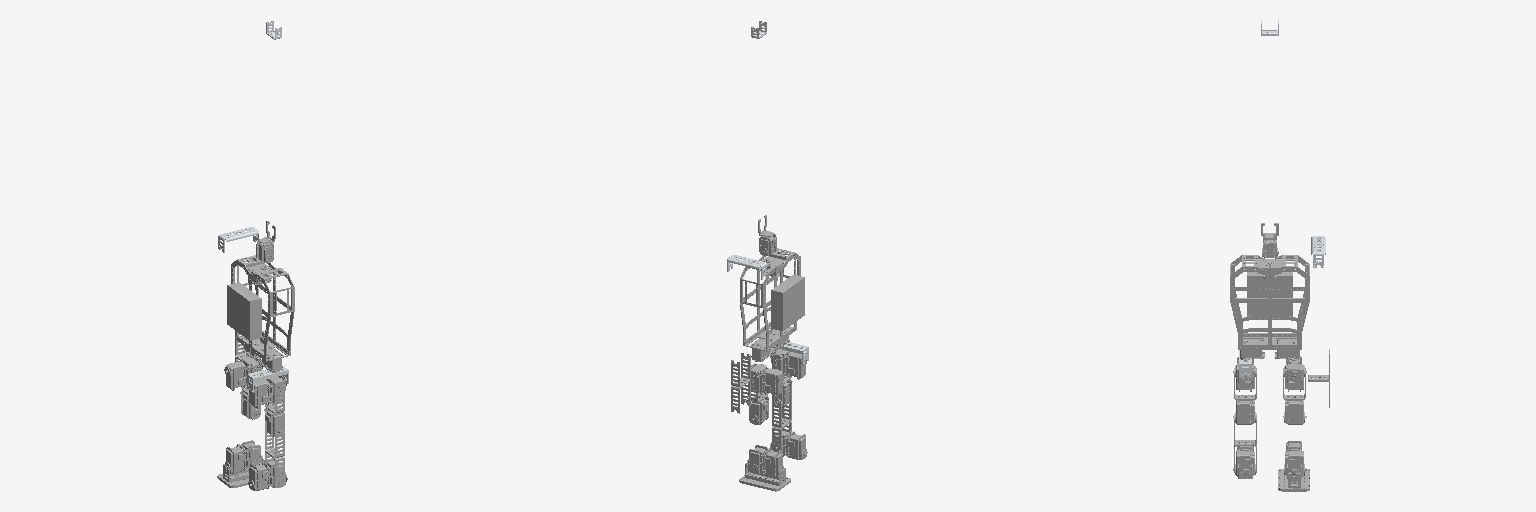
The robot description file, URDF, robot "biped":
<robot
  name="biped">

  <link name="base_link"/>
  <joint name="base_joint" type="fixed">
    <parent link="base_link"/>
    <child link="torso"/>
    <origin rpy="0 0 0" xyz="0.027392311052171495 0 0.500082"/>
  </joint>
  <link
    name="torso">
    <inertial>
      <origin
        xyz="-0.032427 -7.3918E-11 -0.035454"
        rpy="0 0 0" />
      <mass
        value="1.5243" />
      <inertia
        ixx="0.0065088"
        ixy="1.2448E-11"
        ixz="0.00074863"
        iyy="0.0067767"
        iyz="1.2924E-11"
        izz="0.0023018" />
    </inertial>
    <visual>
      <origin
        xyz="0 0 0"
        rpy="0 0 0" />
      <geometry>
        <mesh
          filename="package://meshes/meshes_biped/torso.STL" />
      </geometry>
      <material
        name="">
        <color
          rgba="0.75294 0.75294 0.75294 1" />
      </material>
    </visual>
    <collision>
      <origin
        xyz="0 0 0"
        rpy="0 0 0" />
      <geometry>
        <mesh
          filename="package://meshes/meshes_biped/torso.STL" />
      </geometry>
    </collision>
  </link>
  <link
    name="head_p">
    <inertial>
      <origin
        xyz="-5.5511E-17 5.5511E-17 -0.023536"
        rpy="0 0 0" />
      <mass
        value="0.0091975" />
      <inertia
        ixx="0"
        ixy="0"
        ixz="0"
        iyy="0"
        iyz="0"
        izz="0" />
    </inertial>
    <visual>
      <origin
        xyz="0 0 0"
        rpy="0 0 0" />
      <geometry>
        <mesh
          filename="package://meshes/meshes_biped/head_p.STL" />
      </geometry>
      <material
        name="">
        <color
          rgba="0.89804 0.91765 0.92941 1" />
      </material>
    </visual>
    <collision>
      <origin
        xyz="0 0 0"
        rpy="0 0 0" />
      <geometry>
        <mesh
          filename="package://meshes/meshes_biped/head_p.STL" />
      </geometry>
    </collision>
  </link>
  <joint
    name="head_p"
    type="fixed">
    <origin
      xyz="0.0075 0 0.12157"
      rpy="6.713E-16 6.9212E-18 1.1102E-16" />
    <parent
      link="torso" />
    <child
      link="head_p" />
    <!--axis
      xyz="0 0 1" />
    <limit
      lower="-1.57"
      upper="1.57"
      effort="16"
      velocity="3" /-->
  </joint>
  <link
    name="head_t">
    <inertial>
      <origin
        xyz="0.00078184 2.0234E-05 0.016088"
        rpy="0 0 0" />
      <mass
        value="0.084099" />
      <inertia
        ixx="1.5435E-05"
        ixy="1.3296E-09"
        ixz="-2.5332E-06"
        iyy="1.5134E-05"
        iyz="5.1455E-08"
        izz="1.5241E-06" />
    </inertial>
    <visual>
      <origin
        xyz="0 0 0"
        rpy="0 0 0" />
      <geometry>
        <mesh
          filename="package://meshes/meshes_biped/head_t.STL" />
      </geometry>
      <material
        name="">
        <color
          rgba="0.75294 0.75294 0.75294 1" />
      </material>
    </visual>
    <collision>
      <origin
        xyz="0 0 0"
        rpy="0 0 0" />
      <geometry>
        <mesh
          filename="package://meshes/meshes_biped/head_t.STL" />
      </geometry>
    </collision>
  </link>
  <joint
    name="j_head_t"
    type="fixed">
    <origin
      xyz="0 -0.00025 0"
      rpy="1.4381E-16 -9.993E-17 -7.2164E-16" />
    <parent
      link="head_p" />
    <child
      link="head_t" />
    <!--axis
      xyz="0 1 0" />
    <limit
      lower="-1.57"
      upper="1.57"
      effort="16"
      velocity="3" /-->
  </joint>
  <link
    name="leg_r_hip_y">
    <inertial>
      <origin
        xyz="-0.02001 -2.7756E-17 0.028495"
        rpy="0 0 0" />
      <mass
        value="0.044523" />
      <inertia
        ixx="0"
        ixy="0"
        ixz="0"
        iyy="0"
        iyz="0"
        izz="0" />
    </inertial>
    <visual>
      <origin
        xyz="0 0 0"
        rpy="0 0 0" />
      <geometry>
        <mesh
          filename="package://meshes/meshes_biped/leg_r_hip_y.STL" />
      </geometry>
      <material
        name="">
        <color
          rgba="0.89804 0.91765 0.92941 1" />
      </material>
    </visual>
    <collision>
      <origin
        xyz="0 0 0"
        rpy="0 0 0" />
      <geometry>
        <mesh
          filename="package://meshes/meshes_biped/leg_r_hip_y.STL" />
      </geometry>
    </collision>
  </link>
  <joint
    name="j_leg_r_hip_y"
    type="revolute">
    <origin
      xyz="0 -0.06125 -0.2124"
      rpy="-5.4531E-16 3.0739E-17 -1.6653E-16" />
    <parent
      link="torso" />
    <child
      link="leg_r_hip_y" />
    <axis
      xyz="0 0 -1" />
    <limit
      lower="-1.57"
      upper="1.57"
      effort="16"
      velocity="3" />
  </joint>
  <link
    name="leg_r_hip_r">
    <inertial>
      <origin
        xyz="-0.019939 8.1869E-05 -0.014803"
        rpy="0 0 0" />
      <mass
        value="0.32716" />
      <inertia
        ixx="7.626E-06"
        ixy="-5.5849E-07"
        ixz="-1.0679E-05"
        iyy="0.00018621"
        iyz="-1.5134E-06"
        izz="0.0001855" />
    </inertial>
    <visual>
      <origin
        xyz="0 0 0"
        rpy="0 0 0" />
      <geometry>
        <mesh
          filename="package://meshes/meshes_biped/leg_r_hip_r.STL" />
      </geometry>
      <material
        name="">
        <color
          rgba="0.75294 0.75294 0.75294 1" />
      </material>
    </visual>
    <collision>
      <origin
        xyz="0 0 0"
        rpy="0 0 0" />
      <geometry>
        <mesh
          filename="package://meshes/meshes_biped/leg_r_hip_r.STL" />
      </geometry>
    </collision>
  </link>
  <joint
    name="j_leg_r_hip_r"
    type="revolute">
    <origin
      xyz="0 0 0"
      rpy="-3.9136E-16 4.0824E-19 5.5511E-17" />
    <parent
      link="leg_r_hip_y" />
    <child
      link="leg_r_hip_r" />
    <axis
      xyz="1 0 0" />
    <limit
      lower="-1.57"
      upper="1.57"
      effort="16"
      velocity="3" />
  </joint>
  <link
    name="leg_r_hip_p">
    <inertial>
      <origin
        xyz="-4.7361E-05 0.00014667 -0.10143"
        rpy="0 0 0" />
      <mass
        value="0.18783" />
      <inertia
        ixx="9.8966E-05"
        ixy="-1.5606E-09"
        ixz="2.1853E-07"
        iyy="9.6525E-05"
        iyz="1.7817E-06"
        izz="2.459E-06" />
    </inertial>
    <visual>
      <origin
        xyz="0 0 0"
        rpy="0 0 0" />
      <geometry>
        <mesh
          filename="package://meshes/meshes_biped/leg_r_hip_p.STL" />
      </geometry>
      <material
        name="">
        <color
          rgba="0.75294 0.75294 0.75294 1" />
      </material>
    </visual>
    <collision>
      <origin
        xyz="0 0 0"
        rpy="0 0 0" />
      <geometry>
        <mesh
          filename="package://meshes/meshes_biped/leg_r_hip_p.STL" />
      </geometry>
    </collision>
  </link>
  <joint
    name="j_leg_r_hip_p"
    type="revolute">
    <origin
      xyz="0 0 0"
      rpy="1.4362E-16 7.3309E-16 -1.1102E-16" />
    <parent
      link="leg_r_hip_r" />
    <child
      link="leg_r_hip_p" />
    <axis
      xyz="0 -1 0" />
    <limit
      lower="-1.57"
      upper="1.57"
      effort="16"
      velocity="3" />
  </joint>
  <link
    name="leg_r_knee">
    <inertial>
      <origin
        xyz="6.1062E-16 6.9389E-17 -0.072"
        rpy="0 0 0" />
      <mass
        value="0.047124" />
      <inertia
        ixx="3.4724E-05"
        ixy="1.6941E-21"
        ixz="6.3842E-20"
        iyy="3.4724E-05"
        iyz="-1.1327E-08"
        izz="3.6947E-12" />
    </inertial>
    <visual>
      <origin
        xyz="0 0 0"
        rpy="0 0 0" />
      <geometry>
        <mesh
          filename="package://meshes/meshes_biped/leg_r_knee.STL" />
      </geometry>
      <material
        name="">
        <color
          rgba="0.75294 0.75294 0.75294 1" />
      </material>
    </visual>
    <collision>
      <origin
        xyz="0 0 0"
        rpy="0 0 0" />
      <geometry>
        <mesh
          filename="package://meshes/meshes_biped/leg_r_knee.STL" />
      </geometry>
    </collision>
  </link>
  <joint
    name="j_leg_r_knee"
    type="revolute">
    <origin
      xyz="0 0 -0.1265"
      rpy="-1.3878E-16 -6.6613E-16 5.5511E-17" />
    <parent
      link="leg_r_hip_p" />
    <child
      link="leg_r_knee" />
    <axis
      xyz="0 -1 0" />
    <limit
      lower="-1.57"
      upper="1.57"
      effort="16"
      velocity="3" />
  </joint>
  <link
    name="leg_r_ankle_p">
    <inertial>
      <origin
        xyz="-0.019968 8.5312E-05 0.014812"
        rpy="0 0 0" />
      <mass
        value="0.32697" />
      <inertia
        ixx="7.5839E-06"
        ixy="-5.3256E-07"
        ixz="1.0555E-05"
        iyy="0.00018576"
        iyz="1.5122E-06"
        izz="0.00018509" />
    </inertial>
    <visual>
      <origin
        xyz="0 0 0"
        rpy="0 0 0" />
      <geometry>
        <mesh
          filename="package://meshes/meshes_biped/leg_r_ankle_p.STL" />
      </geometry>
      <material
        name="">
        <color
          rgba="0.75294 0.75294 0.75294 1" />
      </material>
    </visual>
    <collision>
      <origin
        xyz="0 0 0"
        rpy="0 0 0" />
      <geometry>
        <mesh
          filename="package://meshes/meshes_biped/leg_r_ankle_p.STL" />
      </geometry>
    </collision>
  </link>
  <joint
    name="j_leg_r_ankle_p"
    type="revolute">
    <origin
      xyz="0 0 -0.144"
      rpy="7.6328E-17 1.1102E-15 -5.5511E-16" />
    <parent
      link="leg_r_knee" />
    <child
      link="leg_r_ankle_p" />
    <axis
      xyz="0 1 0" />
    <limit
      lower="-1.57"
      upper="1.57"
      effort="16"
      velocity="3" />
  </joint>
  <link
    name="leg_r_ankle_r">
    <inertial>
      <origin
        xyz="-0.02 1.1102E-16 -0.034645"
        rpy="0 0 0" />
      <mass
        value="0.10036" />
      <inertia
        ixx="3.027E-06"
        ixy="-1.0588E-22"
        ixz="-3.7392E-20"
        iyy="3.027E-06"
        iyz="3.9343E-20"
        izz="1.0081E-33" />
    </inertial>
    <visual>
      <origin
        xyz="0 0 0"
        rpy="0 0 0" />
      <geometry>
        <mesh
          filename="package://meshes/meshes_biped/leg_r_ankle_r.STL" />
      </geometry>
      <material
        name="">
        <color
          rgba="0.75294 0.75294 0.75294 1" />
      </material>
    </visual>
    <collision>
      <origin
        xyz="0 0 0"
        rpy="0 0 0" />
      <geometry>
        <mesh
          filename="package://meshes/meshes_biped/leg_r_ankle_r.STL" />
      </geometry>
    </collision>
  </link>
  <joint
    name="j_leg_r_ankle_r"
    type="revolute">
    <origin
      xyz="0 0 0"
      rpy="1.6422E-17 -2.1481E-15 -6.1062E-16" />
    <parent
      link="leg_r_ankle_p" />
    <child
      link="leg_r_ankle_r" />
    <axis
      xyz="-1 0 0" />
    <limit
      lower="-1.57"
      upper="1.57"
      effort="16"
      velocity="3" />
  </joint>

  <link
    name="leg_r_foot">
    <inertial>
      <origin
        xyz="0 0 0"
        rpy="0 0 0" />
      <mass
        value="0" />
      <inertia
        ixx="0"
        ixy="0"
        ixz="0"
        iyy="0"
        iyz="0"
        izz="0" />
    </inertial>
  </link>
  <joint
    name="j_leg_r_foot"
    type="fixed">
    <origin
      xyz="-0.02 0 -0.0425"
      rpy="0 0 0" />
    <parent
      link="leg_r_ankle_r" />
    <child
      link="leg_r_foot" />
  </joint>

  <link
    name="leg_l_hip_y">
    <inertial>
      <origin
        xyz="-0.02001 -2.7756E-17 0.028495"
        rpy="0 0 0" />
      <mass
        value="0.044523" />
      <inertia
        ixx="0"
        ixy="0"
        ixz="0"
        iyy="0"
        iyz="0"
        izz="0" />
    </inertial>
    <visual>
      <origin
        xyz="0 0 0"
        rpy="0 0 0" />
      <geometry>
        <mesh
          filename="package://meshes/meshes_biped/leg_l_hip_y.STL" />
      </geometry>
      <material
        name="">
        <color
          rgba="0.89804 0.91765 0.92941 1" />
      </material>
    </visual>
    <collision>
      <origin
        xyz="0 0 0"
        rpy="0 0 0" />
      <geometry>
        <mesh
          filename="package://meshes/meshes_biped/leg_l_hip_y.STL" />
      </geometry>
    </collision>
  </link>
  <joint
    name="j_leg_l_hip_y"
    type="revolute">
    <origin
      xyz="1E-05 0.06125 -0.2124"
      rpy="2.9156E-16 -1.8495E-16 -6.6058E-15" />
    <parent
      link="torso" />
    <child
      link="leg_l_hip_y" />
    <axis
      xyz="0 0 -1" />
    <limit
      lower="-1.57"
      upper="1.57"
      effort="16"
      velocity="3" />
  </joint>
  <link
    name="leg_l_hip_r">
    <inertial>
      <origin
        xyz="-0.019942 -8.5263E-05 -0.014803"
        rpy="0 0 0" />
      <mass
        value="0.32716" />
      <inertia
        ixx="7.6258E-06"
        ixy="5.3184E-07"
        ixz="-1.068E-05"
        iyy="0.00018616"
        iyz="1.5119E-06"
        izz="0.00018545" />
    </inertial>
    <visual>
      <origin
        xyz="0 0 0"
        rpy="0 0 0" />
      <geometry>
        <mesh
          filename="package://meshes/meshes_biped/leg_l_hip_r.STL" />
      </geometry>
      <material
        name="">
        <color
          rgba="0.75294 0.75294 0.75294 1" />
      </material>
    </visual>
    <collision>
      <origin
        xyz="0 0 0"
        rpy="0 0 0" />
      <geometry>
        <mesh
          filename="package://meshes/meshes_biped/leg_l_hip_r.STL" />
      </geometry>
    </collision>
  </link>
  <joint
    name="j_leg_l_hip_r"
    type="revolute">
    <origin
      xyz="0 0 0"
      rpy="-1.6241E-15 -9.9242E-15 -5.5511E-17" />
    <parent
      link="leg_l_hip_y" />
    <child
      link="leg_l_hip_r" />
    <axis
      xyz="1 0 0" />
    <limit
      lower="-1.57"
      upper="1.57"
      effort="16"
      velocity="3" />
  </joint>
  <link
    name="leg_l_hip_p">
    <inertial>
      <origin
        xyz="-4.1448E-05 -0.00014445 -0.10143"
        rpy="0 0 0" />
      <mass
        value="0.18783" />
      <inertia
        ixx="9.8966E-05"
        ixy="8.6863E-10"
        ixz="2.2891E-07"
        iyy="9.6525E-05"
        iyz="-1.8053E-06"
        izz="2.4592E-06" />
    </inertial>
    <visual>
      <origin
        xyz="0 0 0"
        rpy="0 0 0" />
      <geometry>
        <mesh
          filename="package://meshes/meshes_biped/leg_l_hip_p.STL" />
      </geometry>
      <material
        name="">
        <color
          rgba="0.75294 0.75294 0.75294 1" />
      </material>
    </visual>
    <collision>
      <origin
        xyz="0 0 0"
        rpy="0 0 0" />
      <geometry>
        <mesh
          filename="package://meshes/meshes_biped/leg_l_hip_p.STL" />
      </geometry>
    </collision>
  </link>
  <joint
    name="j_leg_l_hip_p"
    type="revolute">
    <origin
      xyz="0 0 0"
      rpy="1.674E-15 7.4031E-14 1.1102E-16" />
    <parent
      link="leg_l_hip_r" />
    <child
      link="leg_l_hip_p" />
    <axis
      xyz="0 -1 0" />
    <limit
      lower="-1.57"
      upper="1.57"
      effort="16"
      velocity="3" />
  </joint>
  <link
    name="leg_l_knee">
    <inertial>
      <origin
        xyz="6.1062E-16 -2.7756E-17 -0.072"
        rpy="0 0 0" />
      <mass
        value="0.047124" />
      <inertia
        ixx="3.4724E-05"
        ixy="8.4703E-22"
        ixz="7.2051E-20"
        iyy="3.4724E-05"
        iyz="-1.1327E-08"
        izz="3.6947E-12" />
    </inertial>
    <visual>
      <origin
        xyz="0 0 0"
        rpy="0 0 0" />
      <geometry>
        <mesh
          filename="package://meshes/meshes_biped/leg_l_knee.STL" />
      </geometry>
      <material
        name="">
        <color
          rgba="0.75294 0.75294 0.75294 1" />
      </material>
    </visual>
    <collision>
      <origin
        xyz="0 0 0"
        rpy="0 0 0" />
      <geometry>
        <mesh
          filename="package://meshes/meshes_biped/leg_l_knee.STL" />
      </geometry>
    </collision>
  </link>
  <joint
    name="j_leg_l_knee"
    type="revolute">
    <origin
      xyz="0 0 -0.1265"
      rpy="1.9993E-16 -6.4219E-14 0" />
    <parent
      link="leg_l_hip_p" />
    <child
      link="leg_l_knee" />
    <axis
      xyz="0 -1 0" />
    <limit
      lower="-1.57"
      upper="1.57"
      effort="16"
      velocity="3" />
  </joint>
  <link
    name="leg_l_ankle_p">
    <inertial>
      <origin
        xyz="-0.019964 -8.1917E-05 0.014812"
        rpy="0 0 0" />
      <mass
        value="0.32697" />
      <inertia
        ixx="7.5841E-06"
        ixy="5.5918E-07"
        ixz="1.0554E-05"
        iyy="0.0001858"
        iyz="-1.5137E-06"
        izz="0.00018513" />
    </inertial>
    <visual>
      <origin
        xyz="0 0 0"
        rpy="0 0 0" />
      <geometry>
        <mesh
          filename="package://meshes/meshes_biped/leg_l_ankle_p.STL" />
      </geometry>
      <material
        name="">
        <color
          rgba="0.75294 0.75294 0.75294 1" />
      </material>
    </visual>
    <collision>
      <origin
        xyz="0 0 0"
        rpy="0 0 0" />
      <geometry>
        <mesh
          filename="package://meshes/meshes_biped/leg_l_ankle_p.STL" />
      </geometry>
    </collision>
  </link>
  <joint
    name="j_leg_l_ankle_p"
    type="revolute">
    <origin
      xyz="0 0 -0.144"
      rpy="3.5172E-16 8.6649E-16 3.8858E-16" />
    <parent
      link="leg_l_knee" />
    <child
      link="leg_l_ankle_p" />
    <axis
      xyz="0 1 0" />
    <limit
      lower="-1.57"
      upper="1.57"
      effort="16"
      velocity="3" />
  </joint>
  <link
    name="leg_l_ankle_r">
    <inertial>
      <origin
        xyz="-0.02 -5.5511E-17 -0.034645"
        rpy="0 0 0" />
      <mass
        value="0.10036" />
      <inertia
        ixx="3.027E-06"
        ixy="0"
        ixz="3.2225E-20"
        iyy="3.027E-06"
        iyz="8.1613E-21"
        izz="6.4314E-34" />
    </inertial>
    <visual>
      <origin
        xyz="0 0 0"
        rpy="0 0 0" />
      <geometry>
        <mesh
          filename="package://meshes/meshes_biped/leg_l_ankle_r.STL" />
      </geometry>
      <material
        name="">
        <color
          rgba="0.75294 0.75294 0.75294 1" />
      </material>
    </visual>
    <collision>
      <origin
        xyz="0 0 0"
        rpy="0 0 0" />
      <geometry>
        <mesh
          filename="package://meshes/meshes_biped/leg_l_ankle_r.STL" />
      </geometry>
    </collision>
  </link>
  <joint
    name="j_leg_l_ankle_r"
    type="revolute">
    <origin
      xyz="0 0 0"
      rpy="6.5861E-17 -2.1529E-15 -3.0087E-14" />
    <parent
      link="leg_l_ankle_p" />
    <child
      link="leg_l_ankle_r" />
    <axis
      xyz="-1 0 0" />
    <limit
      lower="-1.57"
      upper="1.57"
      effort="16"
      velocity="3" />
  </joint>
<link
    name="leg_l_foot">
    <inertial>
      <origin
        xyz="0 0 0"
        rpy="0 0 0" />
      <mass
        value="0" />
      <inertia
        ixx="0"
        ixy="0"
        ixz="0"
        iyy="0"
        iyz="0"
        izz="0" />
    </inertial>
  </link>
  <joint
    name="j_leg_l_foot"
    type="fixed">
    <origin
      xyz="-0.02 0 -0.0425"
      rpy="0 0 0" />
    <parent
      link="leg_l_ankle_r" />
    <child
      link="leg_l_foot" />
  </joint>
</robot>

--- What the picture shows (computed from the rendered views, not written in the file) ---
Views: 3 orthographic renders of the robot side by side, from view 1: azimuth 30°, elevation 25°; view 2: azimuth 150°, elevation 25°; view 3: azimuth 270°, elevation 25°.
Model biped with 18 links and 17 joints (12 revolute, 5 fixed), rooted at base_link, posed every joint at zero.
Visible links, largest first — view 1: torso, leg_l_ankle_p, leg_r_ankle_p, leg_r_hip_r, leg_l_hip_r, leg_r_hip_p, leg_r_knee; view 2: torso, leg_l_ankle_p, leg_l_knee, leg_l_hip_r, leg_l_ankle_r, leg_r_hip_r, leg_r_ankle_p, leg_l_hip_p, leg_r_knee; view 3: torso, leg_l_hip_p, leg_r_hip_p, leg_l_ankle_p, leg_r_ankle_p, leg_l_ankle_r, leg_l_hip_r.
Link boxes in pixels (<box>): torso: <box>227,255,294,372</box>; leg_l_ankle_p: <box>225,440,263,473</box>; leg_r_ankle_p: <box>248,458,287,490</box>; leg_r_hip_r: <box>249,375,287,408</box>; leg_l_hip_r: <box>224,357,262,390</box>; leg_r_hip_p: <box>264,385,284,436</box>; leg_r_knee: <box>265,430,284,484</box>; torso: <box>740,248,804,361</box>; leg_l_ankle_p: <box>746,445,783,476</box>; leg_l_knee: <box>731,353,750,413</box>; leg_l_hip_r: <box>746,363,783,396</box>; leg_l_ankle_r: <box>739,464,790,491</box>; leg_r_hip_r: <box>770,348,806,379</box>; leg_r_ankle_p: <box>769,429,807,459</box>; leg_l_hip_p: <box>749,375,768,424</box>; leg_r_knee: <box>772,401,791,452</box>; torso: <box>1230,255,1309,360</box>; leg_l_hip_p: <box>1283,368,1306,424</box>; leg_r_hip_p: <box>1233,368,1256,424</box>; leg_l_ankle_p: <box>1283,441,1306,478</box>; leg_r_ankle_p: <box>1233,443,1255,478</box>; leg_l_ankle_r: <box>1278,469,1309,491</box>; leg_l_hip_r: <box>1283,356,1306,391</box>.
Bounding box of the posed robot: 0.1325 × 0.2505 × 1.3 m (x, y, z).
14 mesh visuals loaded from 15 distinct referenced files (14 binary STL); not drawn: 1 (reference not matched to a file when rendering).